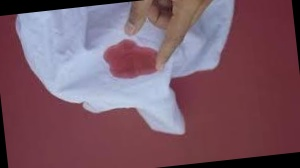blood: (102, 37, 157, 83)
